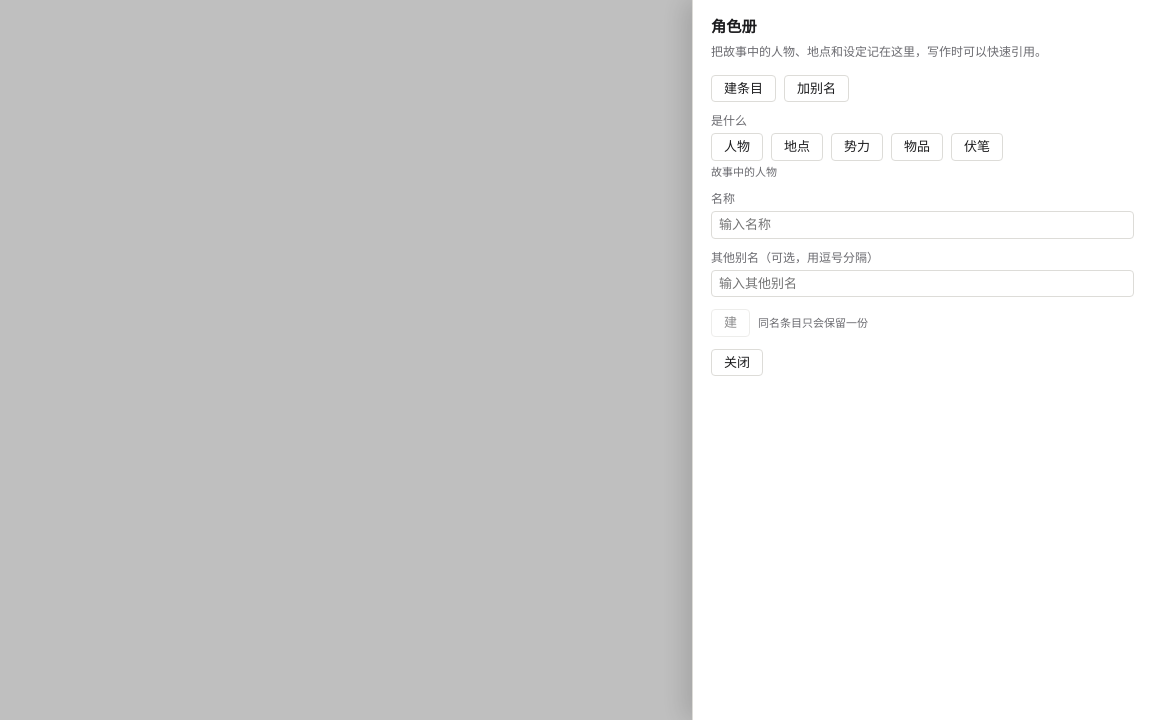
Test: 角色册抽屉 › 建完给回执，并告诉作者下一步是什么
Type "测试角色" into the field with placeholder "输入名称" at (922, 225), box [711,211,1134,239]
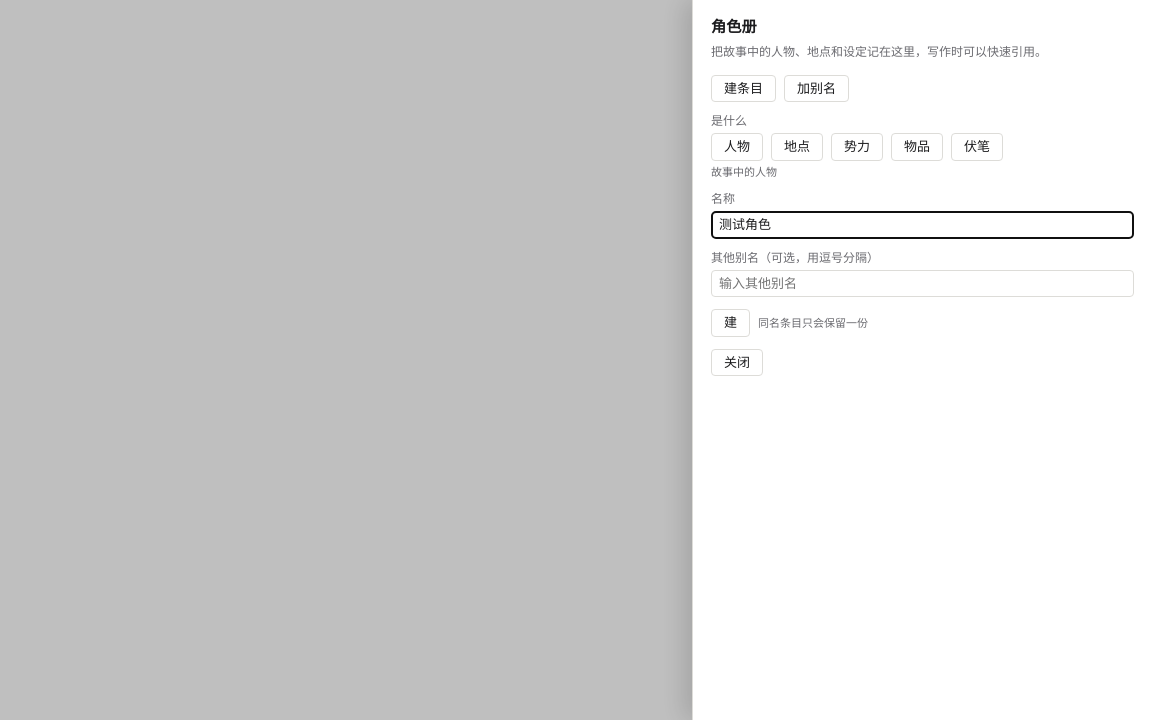
Click the button "建" at (730, 323), box [711,309,750,337]
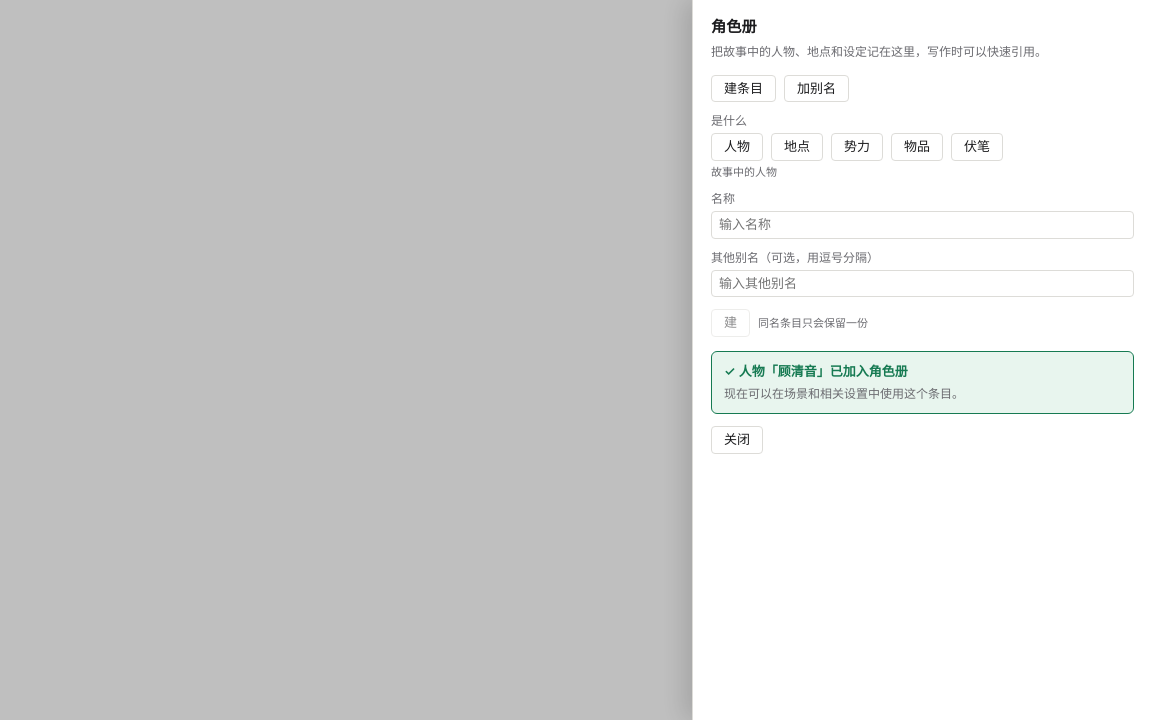
Expected: the text "✓ 人物「顾清音」已加入角色册" is shown, [724,363,908,379]
